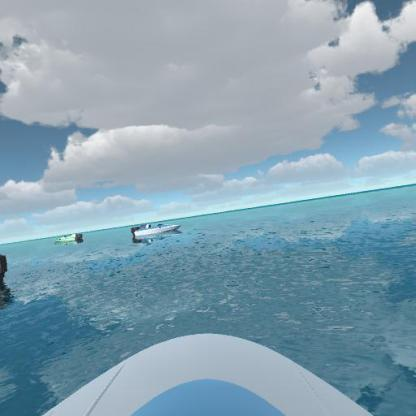usv0: (47, 229, 86, 244)
usv1: (125, 221, 186, 243)
